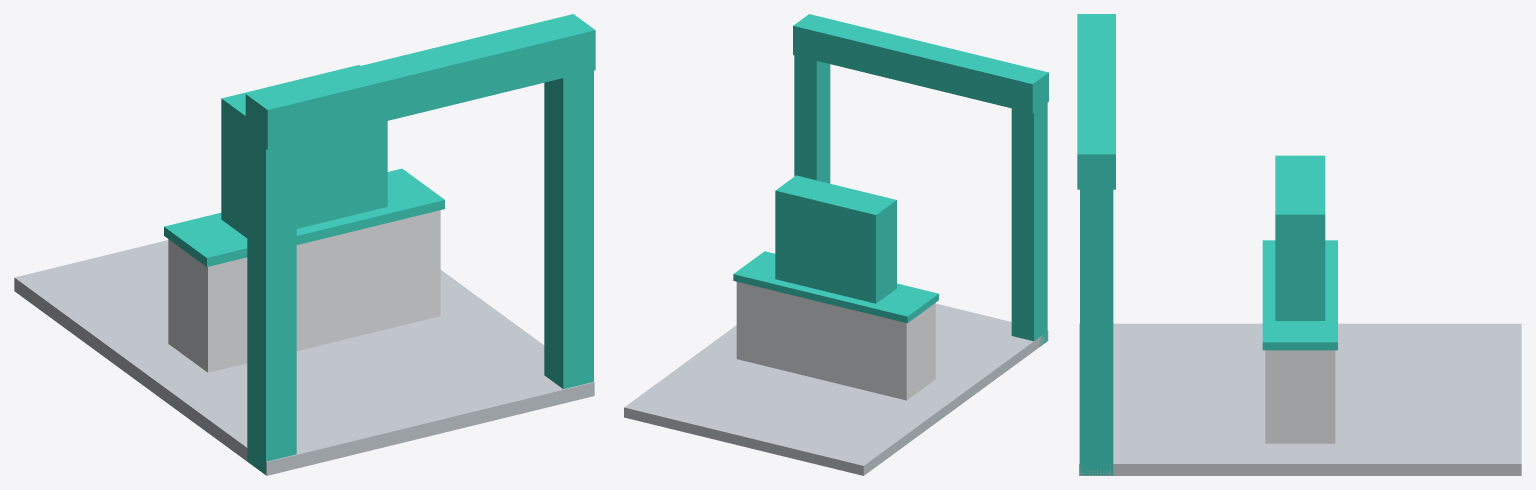
3 views of the same model, side by side, from view 1: azimuth 30°, elevation 25°; view 2: azimuth 150°, elevation 25°; view 3: azimuth 270°, elevation 25° (orthographic). The views are drawn at different scales.
Visible parts, largest first — view 1: Exhibition Booth Concept; view 2: Exhibition Booth Concept; view 3: Exhibition Booth Concept.
Part boxes in pixels (<box>): Exhibition Booth Concept: <box>14,14,595,475</box>; Exhibition Booth Concept: <box>624,14,1048,475</box>; Exhibition Booth Concept: <box>1077,14,1521,475</box>.
Bounding box in the file's own units: 3 × 3.2 × 4.02.
